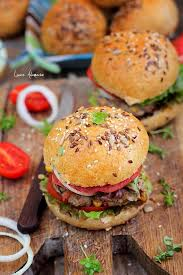hamburger: (39, 105, 150, 234), (92, 28, 178, 129)
